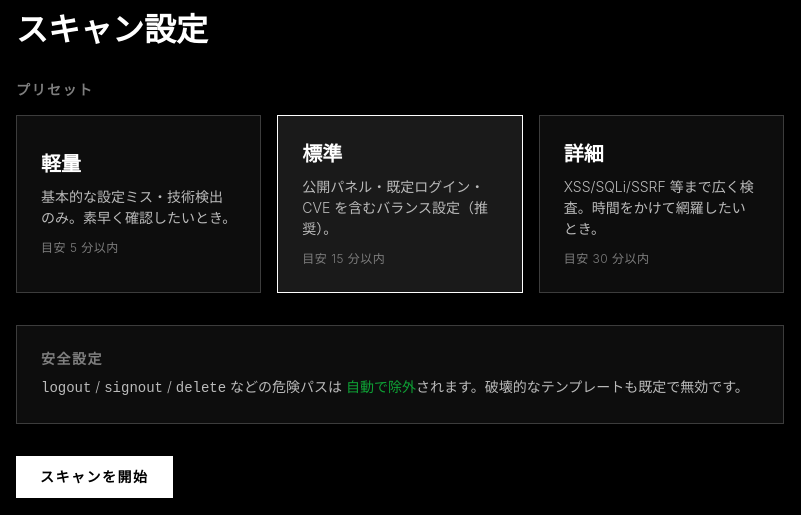
Test: pages/sites/[id]/scan › 開始成功後はボタンを無効のまま保持し二重開始を防ぐ
This screenshot has width=801, height=515.
Click the button with test id "start-scan" at (94,477), box [16,456,172,498]
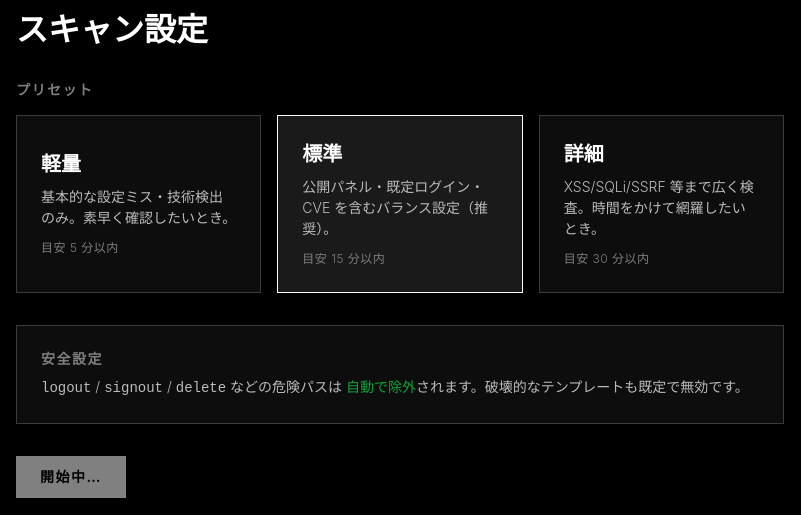
Expected: the button with test id "start-scan" is disabled, [16,456,126,498]
